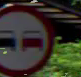No overtake: (0, 2, 56, 75)
